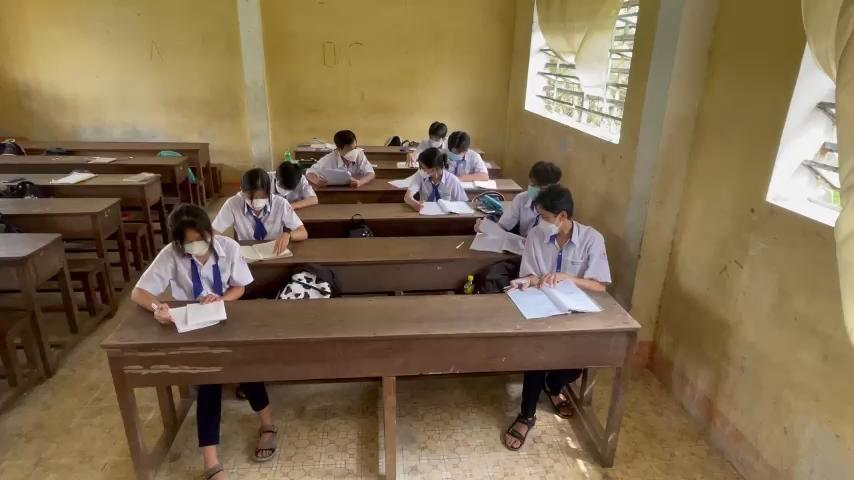Hand Under Table: (443, 171, 469, 205)
Look Around: (526, 182, 577, 242), (411, 143, 448, 186), (331, 123, 368, 165)
